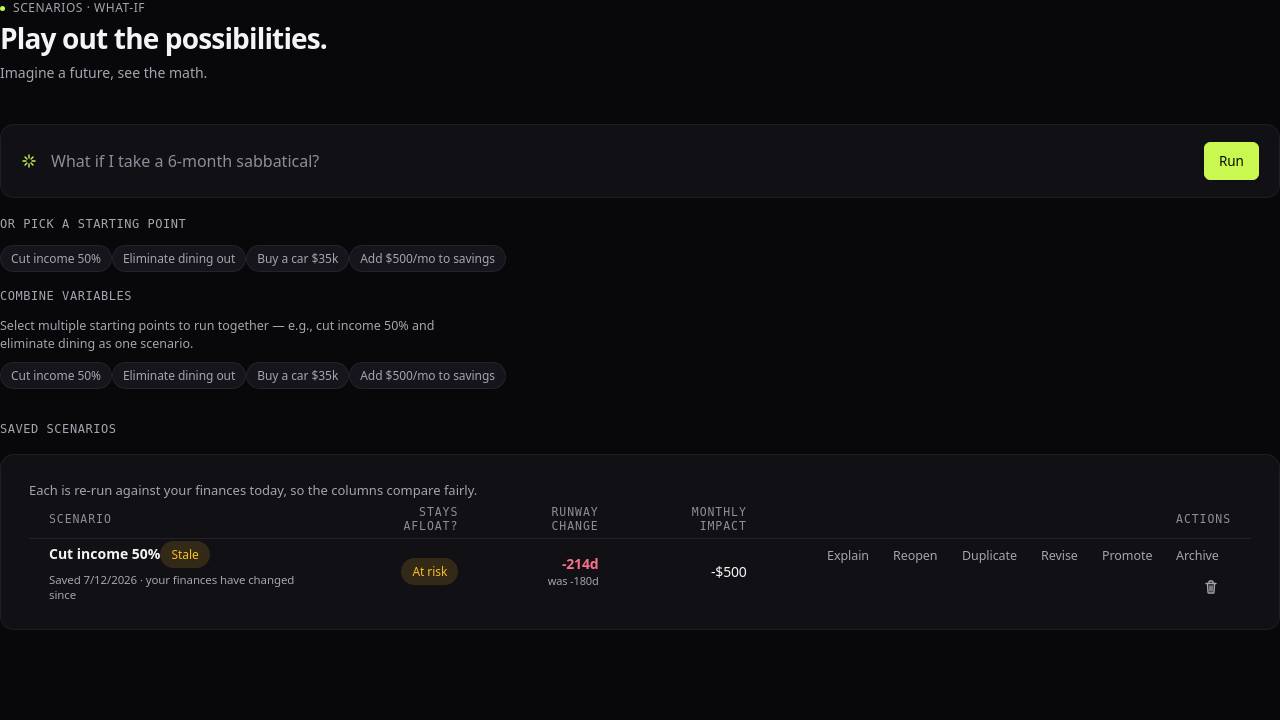
Scenarios screen › promoting a scenario shows changes split into applyable vs recommendation-only
Click the button "Promote".
click(1127, 555)  # box [1090, 539, 1164, 571]
(page scrolled)
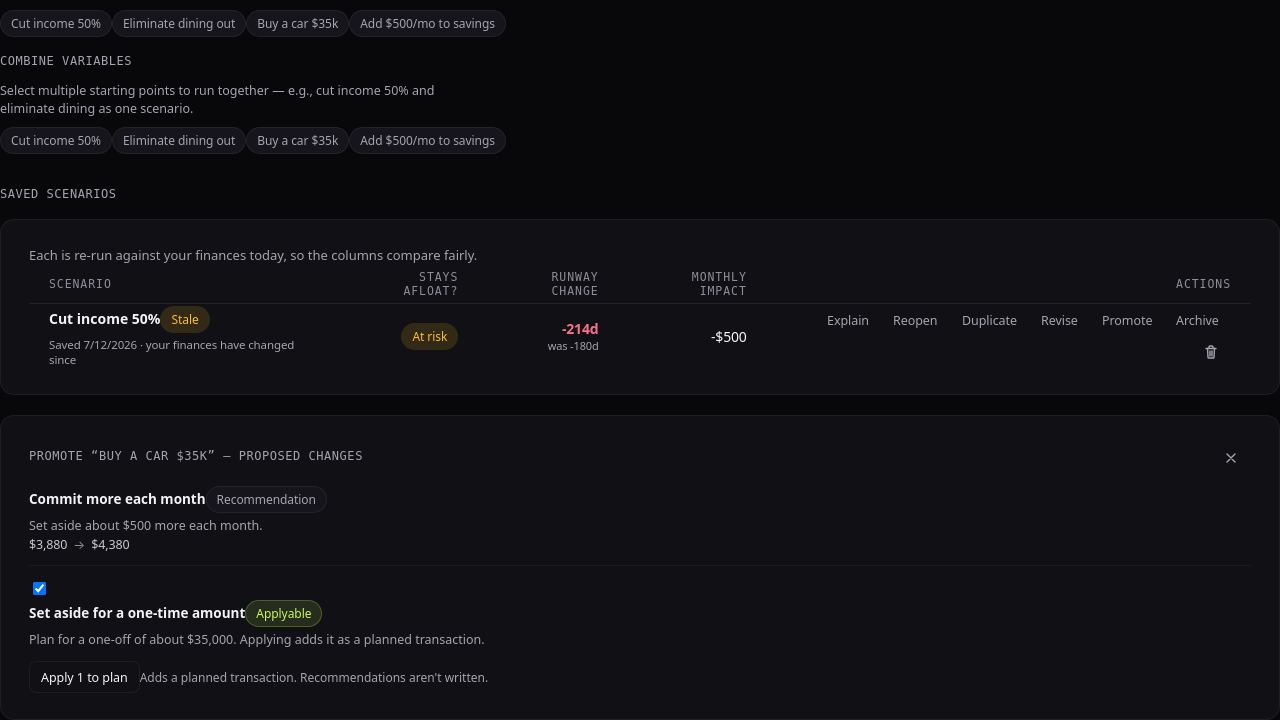
Result: the text "Commit more each month" is shown at [29, 490, 206, 508]
Result: the text "Recommendation" is shown at [206, 486, 327, 513]
Result: the text "Applyable" is shown at [245, 600, 322, 626]
